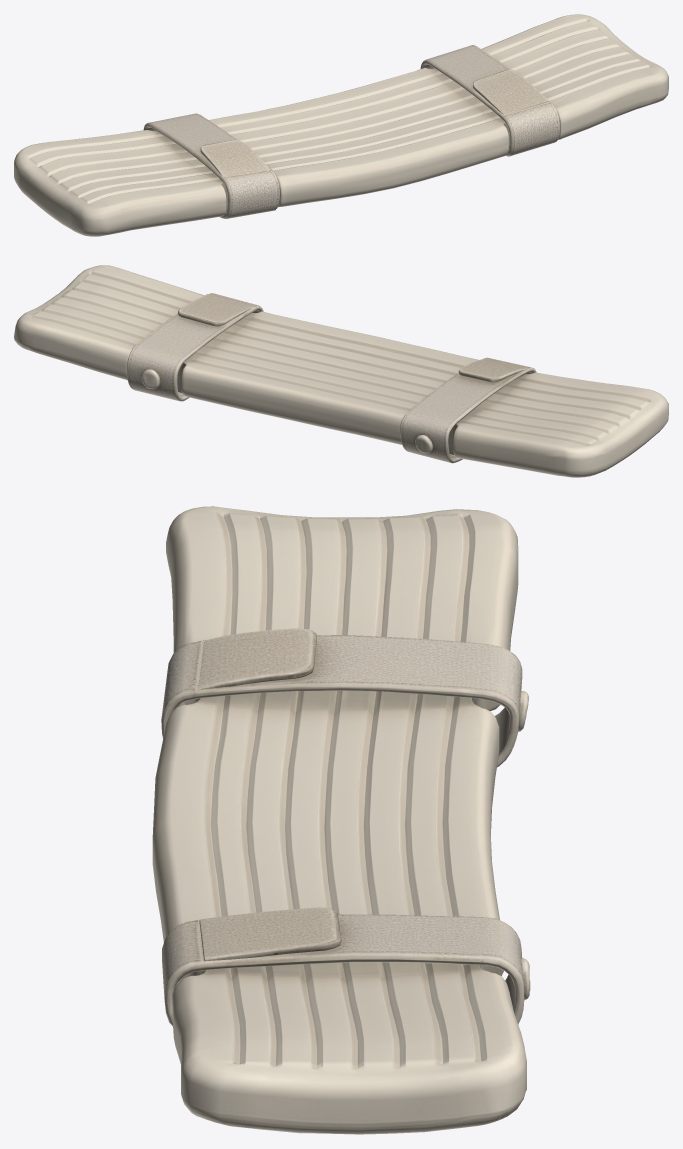
File: tripo_convert_9f5bc40b-4e27-4a23-8c59-1c2bfba29c28.glb
3 views of the same model, one above another, from view 1: azimuth 30°, elevation 25°; view 2: azimuth 150°, elevation 25°; view 3: azimuth 270°, elevation 25° (orthographic). The views are drawn at different scales.
Visible parts, largest first — view 1: tripo_node_9f5bc40b-4e27-4a23-8c59-1c2bfba29c28; view 2: tripo_node_9f5bc40b-4e27-4a23-8c59-1c2bfba29c28; view 3: tripo_node_9f5bc40b-4e27-4a23-8c59-1c2bfba29c28.
Boxes of the visible parts, bbox=[...] form: tripo_node_9f5bc40b-4e27-4a23-8c59-1c2bfba29c28: bbox=[14, 14, 668, 236]; tripo_node_9f5bc40b-4e27-4a23-8c59-1c2bfba29c28: bbox=[14, 265, 668, 477]; tripo_node_9f5bc40b-4e27-4a23-8c59-1c2bfba29c28: bbox=[152, 506, 530, 1134].
Bounding box in the file's own units: 0.9995 × 0.0952 × 0.2808.
Materials: 1 (1 with a texture image).
